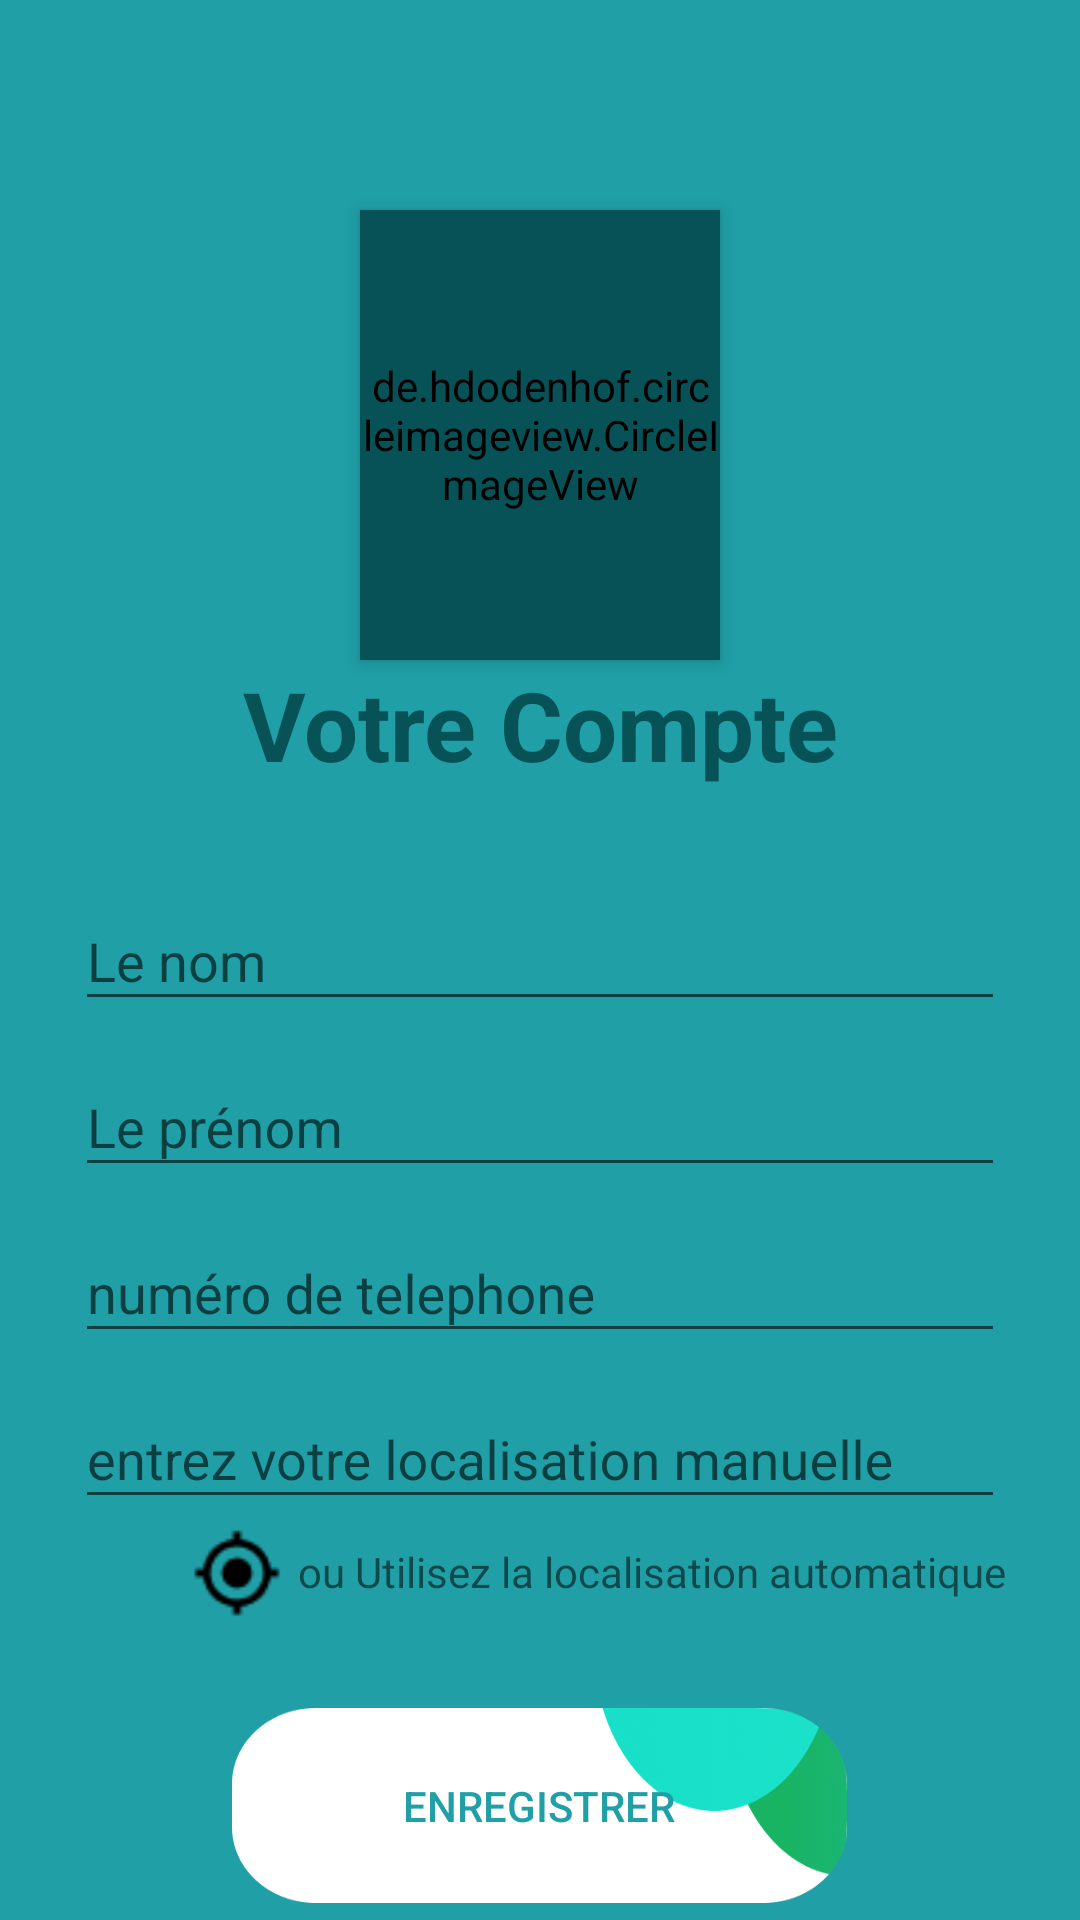

Screen size 1080 × 1920. Icon name, then its box in pixels as [x1=x1, y1=y1, x2=x2, y2=y2]:
localisattion: [x1=194, y1=1530, x2=280, y2=1616]
